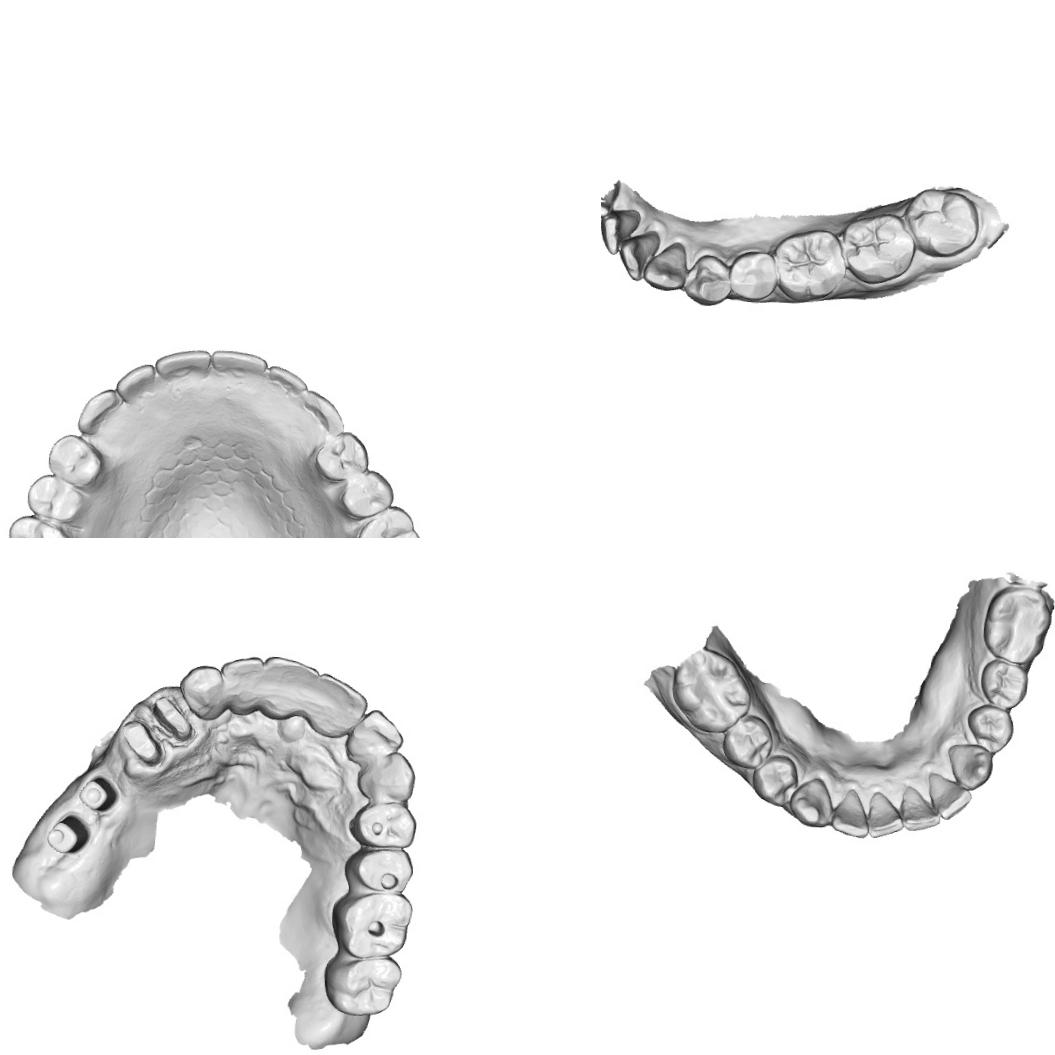abutment: (45, 812, 91, 855), (76, 775, 121, 813)
canine: (68, 383, 130, 440), (354, 748, 417, 804), (176, 662, 226, 721), (942, 740, 995, 794), (786, 774, 836, 830), (295, 387, 346, 438), (641, 238, 688, 292)
crown: (148, 694, 198, 748), (118, 717, 167, 768)
incisor: (306, 672, 368, 740), (260, 654, 320, 722), (342, 707, 405, 766), (922, 768, 976, 822), (217, 654, 264, 716), (207, 345, 271, 390), (153, 344, 212, 390), (827, 784, 872, 840), (896, 782, 944, 834), (863, 786, 906, 842), (617, 229, 661, 282), (113, 358, 158, 405), (264, 360, 309, 405), (601, 206, 641, 256)
molar: (669, 648, 755, 737), (980, 582, 1054, 668), (328, 888, 414, 960), (838, 210, 918, 287), (770, 226, 848, 304), (900, 186, 981, 259), (320, 953, 402, 1018), (351, 500, 427, 538), (0, 512, 73, 538)
premolar: (718, 708, 777, 772), (23, 470, 86, 526), (44, 432, 104, 490), (347, 800, 418, 849), (310, 426, 367, 487), (336, 466, 396, 522), (344, 844, 414, 892), (747, 750, 801, 810), (975, 655, 1032, 711), (962, 700, 1016, 756), (680, 253, 732, 308), (727, 248, 779, 302)
